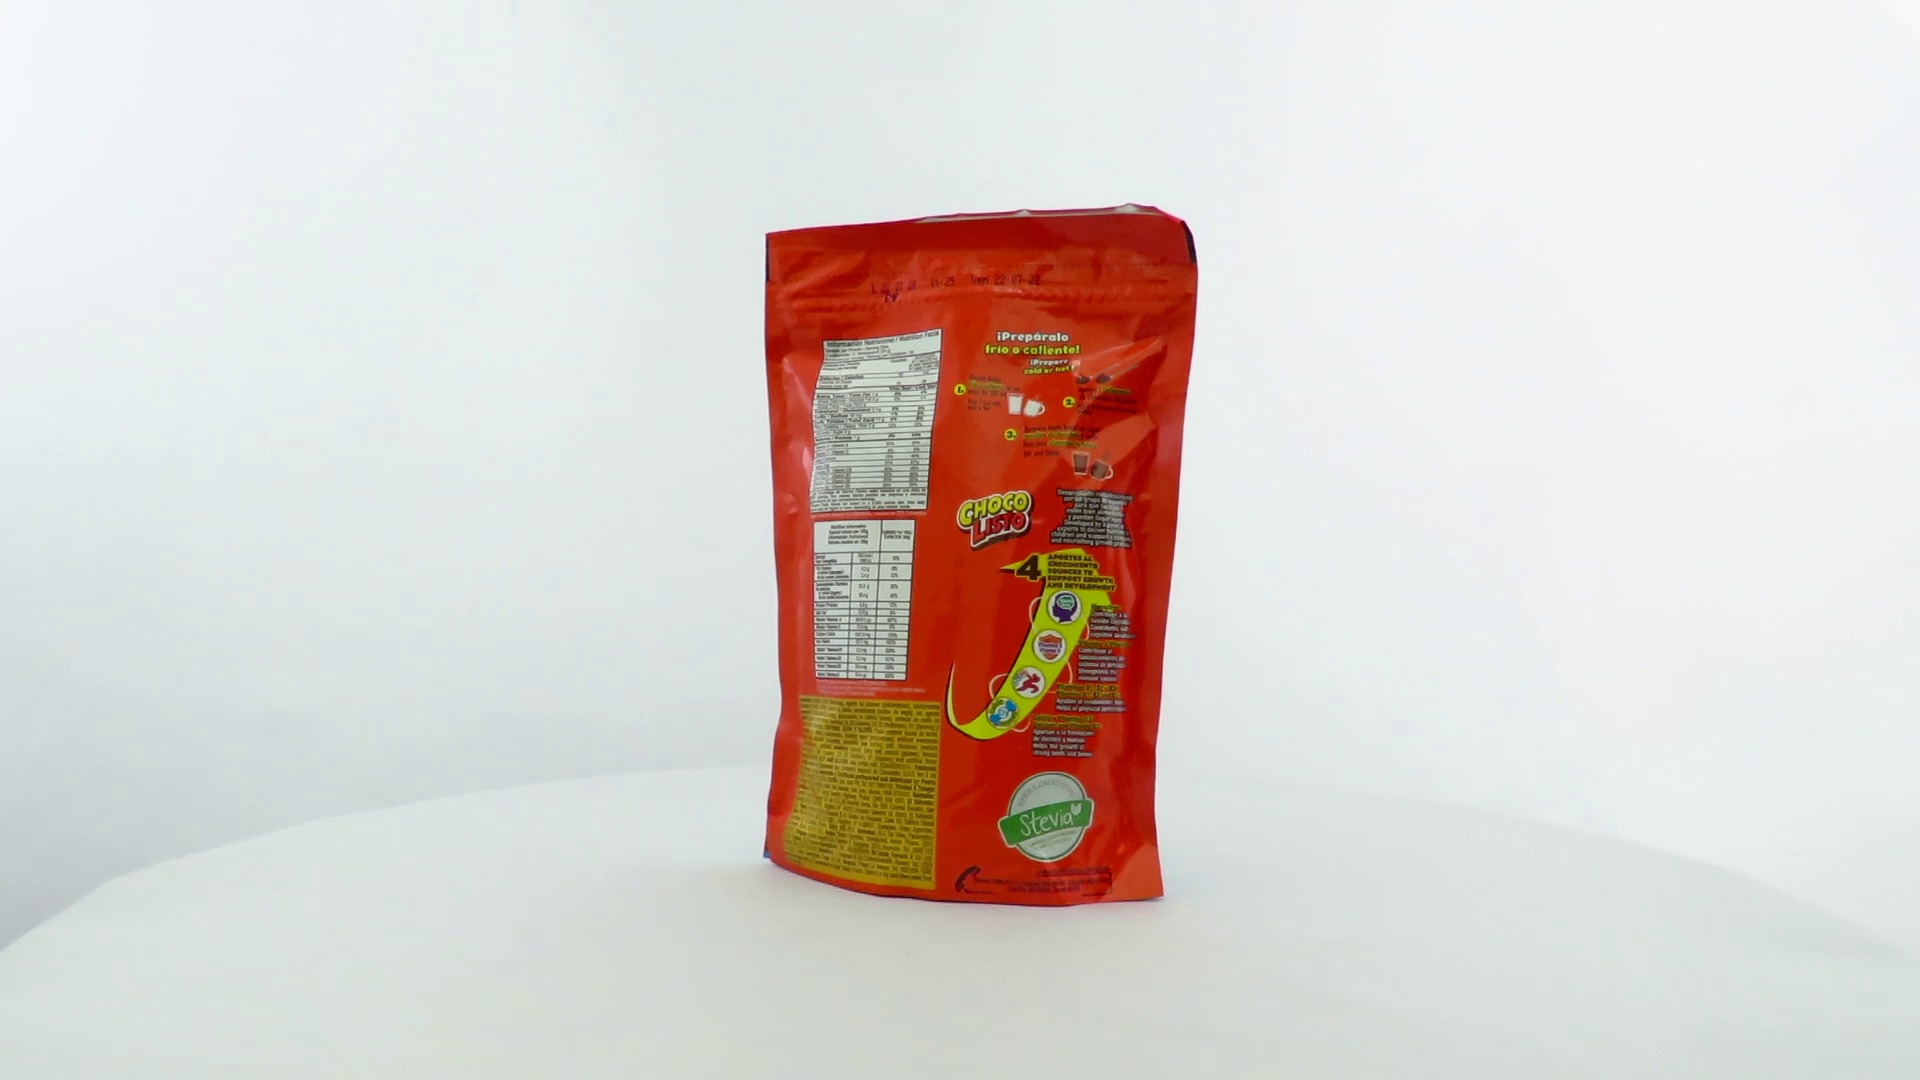COL0170104DYP20000: (758, 196, 1204, 914)
